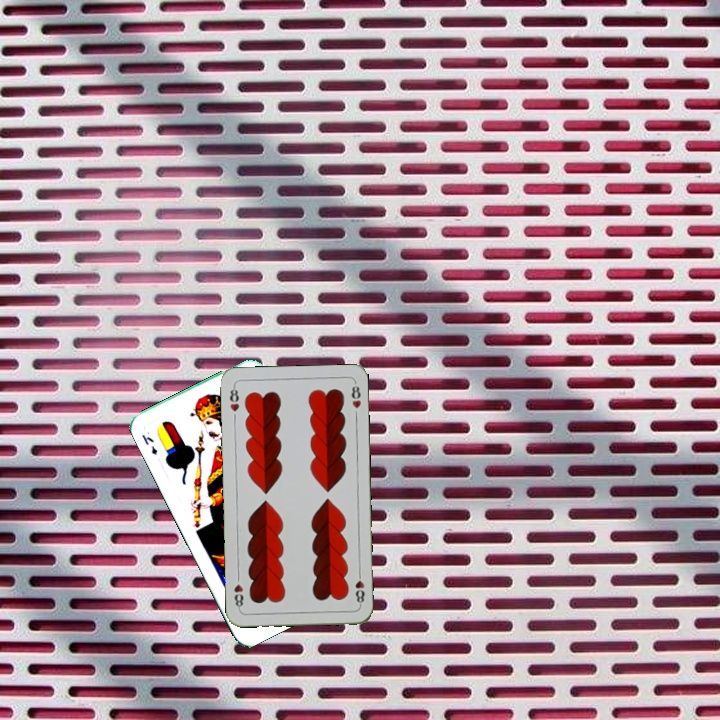EK: (138, 430, 160, 457)
H8: (351, 567, 367, 608), (226, 382, 242, 414)
